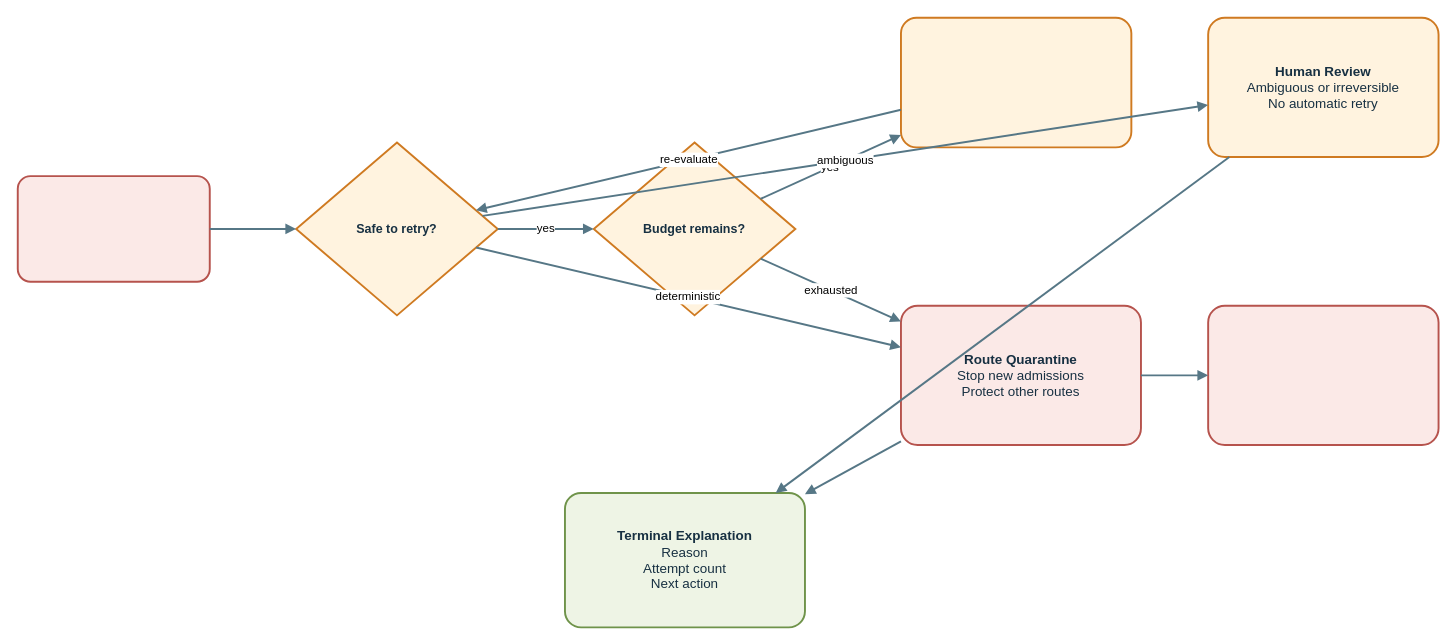
This 1455x644 diagram has some shape labels left out. Each missing label, with the centre of its shape:
"Bounded Retry Backoff and jitter Same checkpoint" goes at [1016,82].
"Failure Classify once" goes at [113,228].
"Repair Incident Canonical signature Owner and priority" goes at [1323,374].
